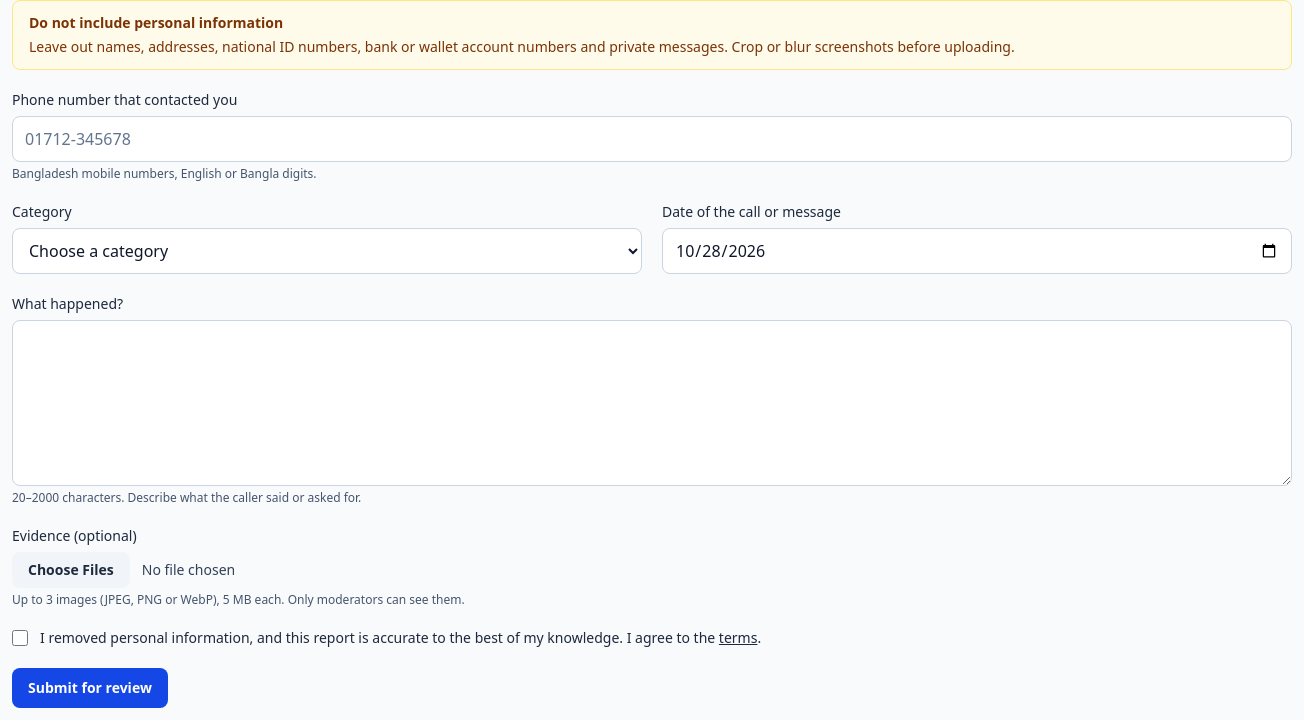
it: ReportForm › submits a normalized number and shows the reference
The width and height of the screenshot is (1304, 720).
Expected: the dropdown labelled "Category" is shown, [12,228,642,274]
Type "০১৭১২-৩৪৫৬৭৮" into the field labelled "Phone number that contacted you".
click(652, 139); type("০১৭১২-৩৪৫৬৭৮")  # box [12,116,1292,162]
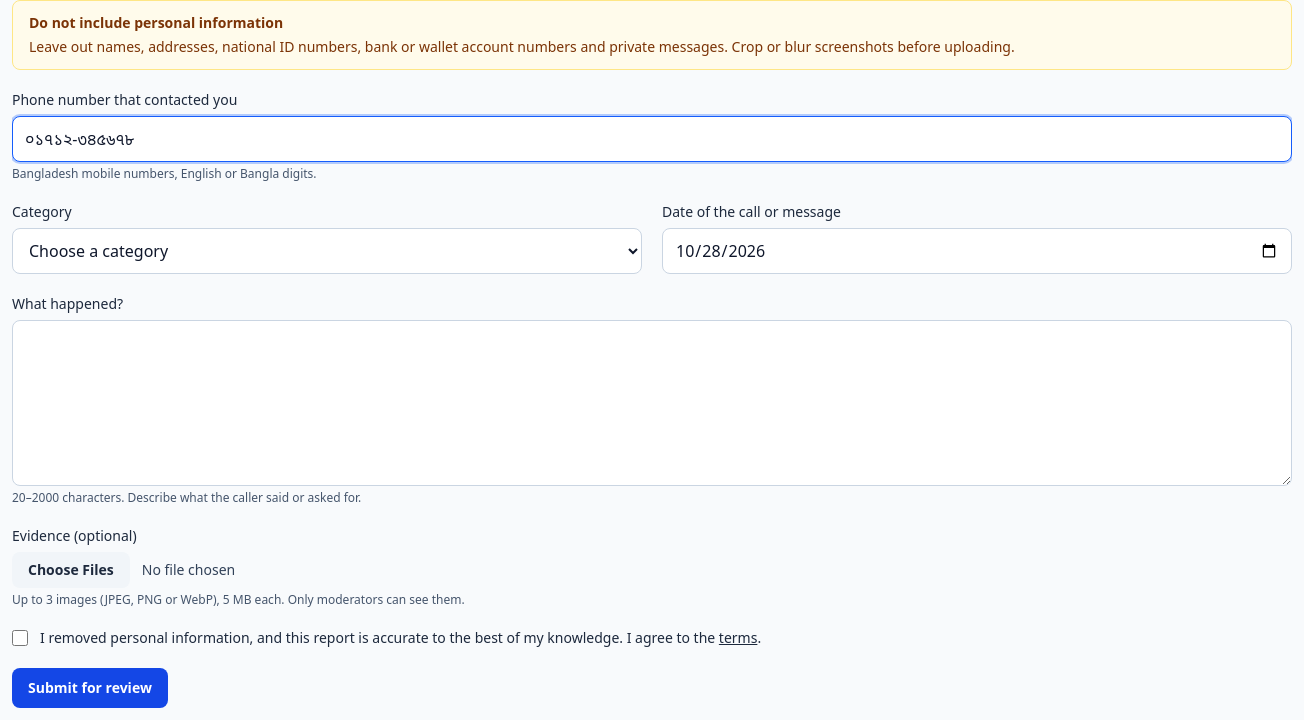
Select "Banking & Phishing Scam" in the dropdown labelled "Category" at (327, 251), box [12,228,642,274]
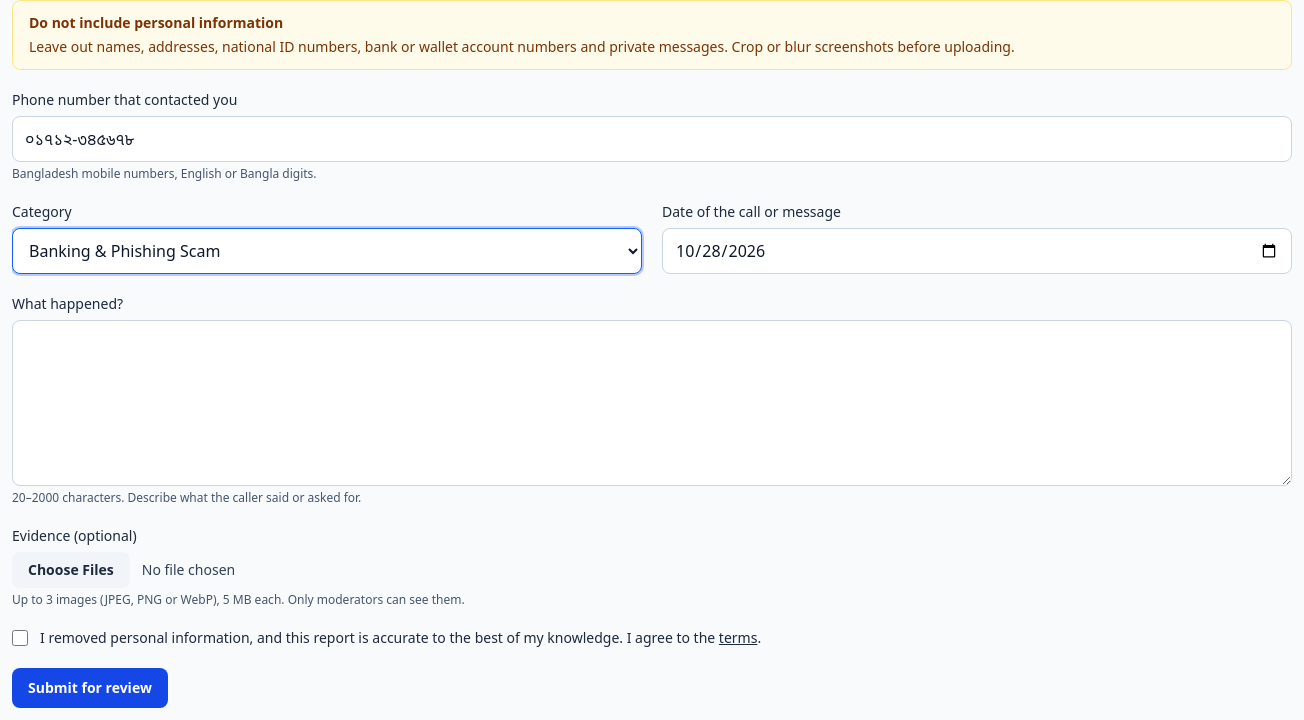
Type "Caller asked for my card number and OTP." into the text box labelled "What happened?".
click(652, 403); type("Caller asked for my card number and OTP.")  # box [12,320,1292,486]
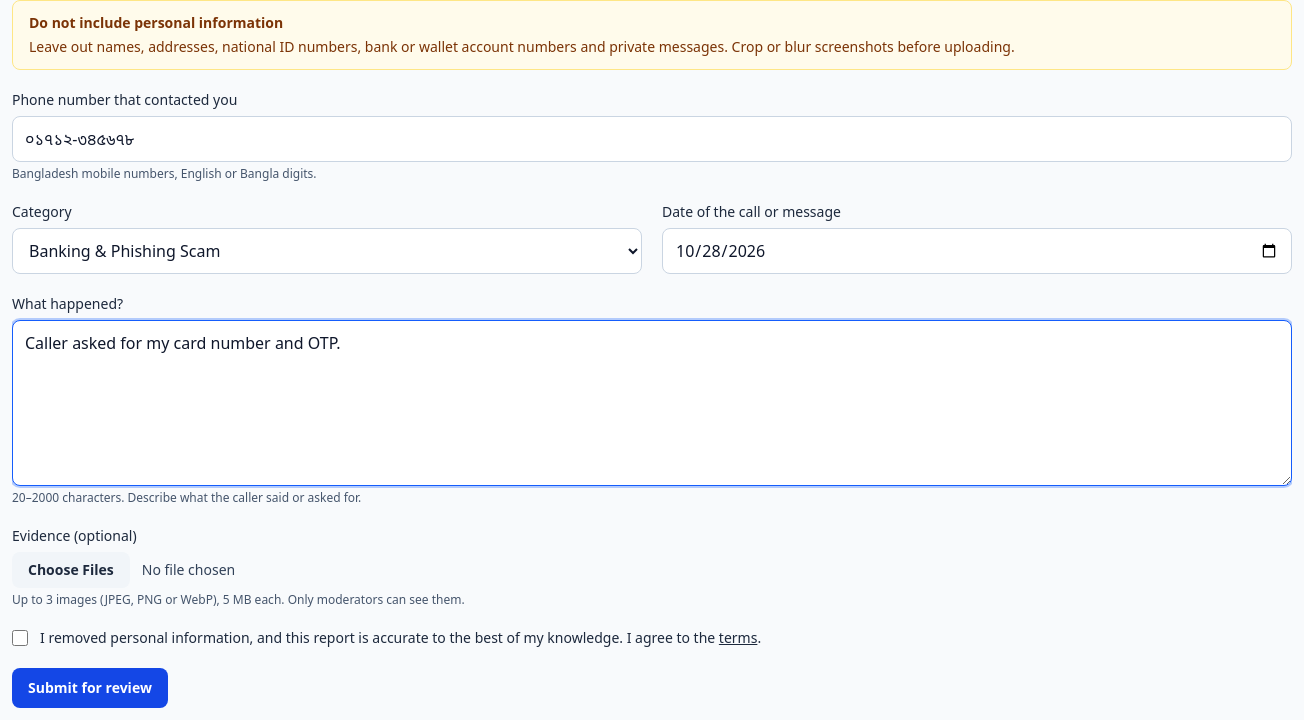
Click the checkbox.
click(20, 638)  # box [12,630,28,646]
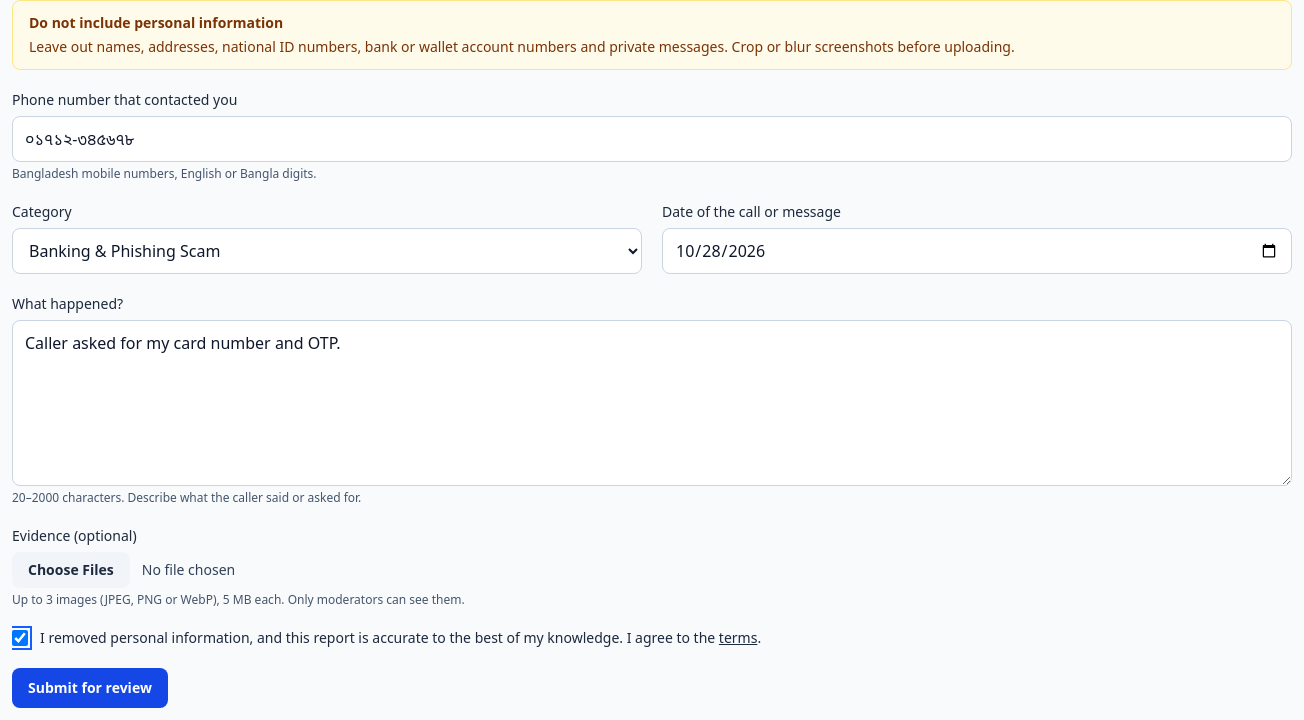
Click the button "Submit for review".
click(90, 688)  # box [12,668,168,708]
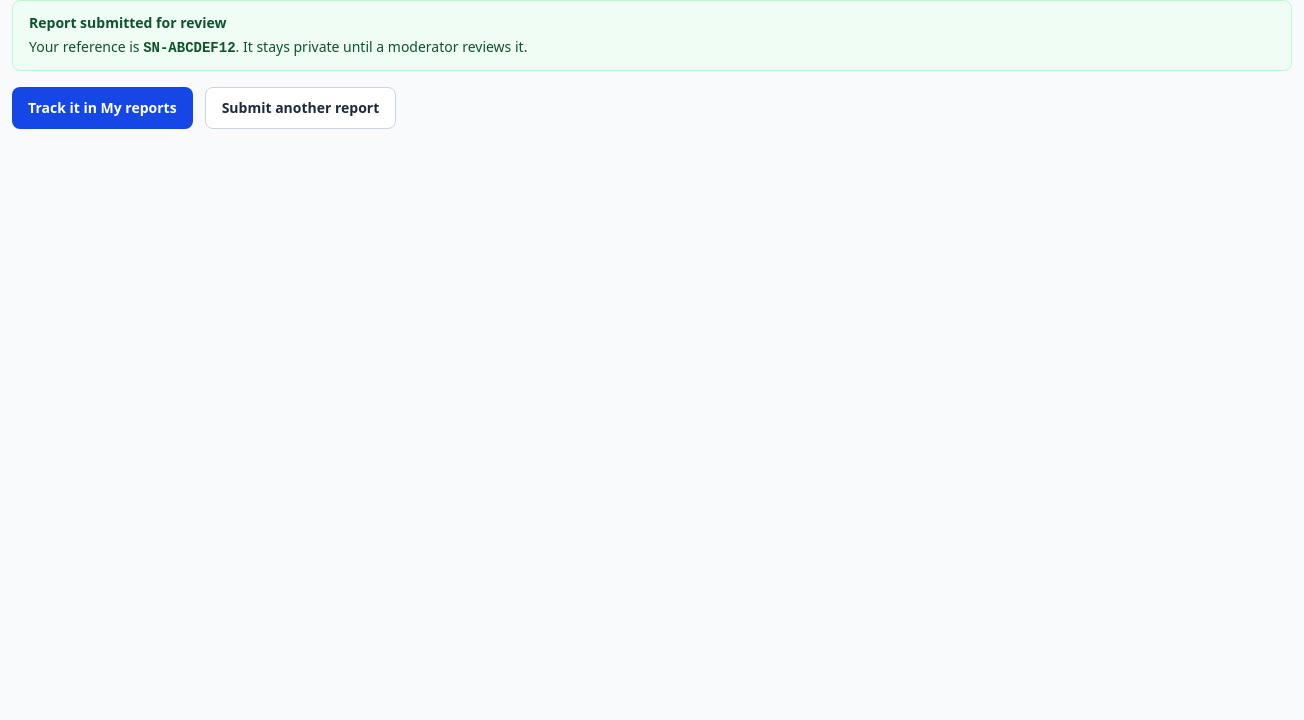
Expected: the text "SN-ABCDEF12" is shown, [143,40,236,56]
